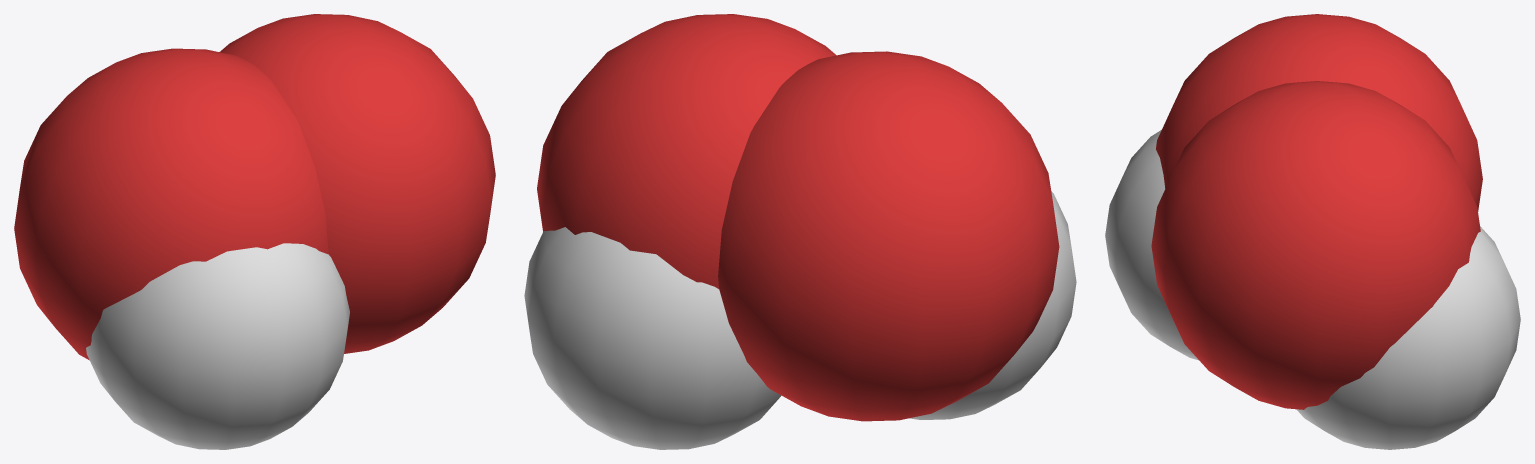
Rendered from h2o2-cpk.glb.
3 views of the same model, side by side, from view 1: azimuth 30°, elevation 25°; view 2: azimuth 150°, elevation 25°; view 3: azimuth 270°, elevation 25° (orthographic). The views are drawn at different scales.
Visible parts, largest first — view 1: h2o2-cpk; view 2: h2o2-cpk; view 3: h2o2-cpk.
Part boxes in pixels (x1,y1,x2,y2): h2o2-cpk: (14, 14, 495, 449); h2o2-cpk: (524, 14, 1076, 449); h2o2-cpk: (1105, 14, 1520, 449).
Bounding box in the file's own units: 4.49 × 3.42 × 3.81.
